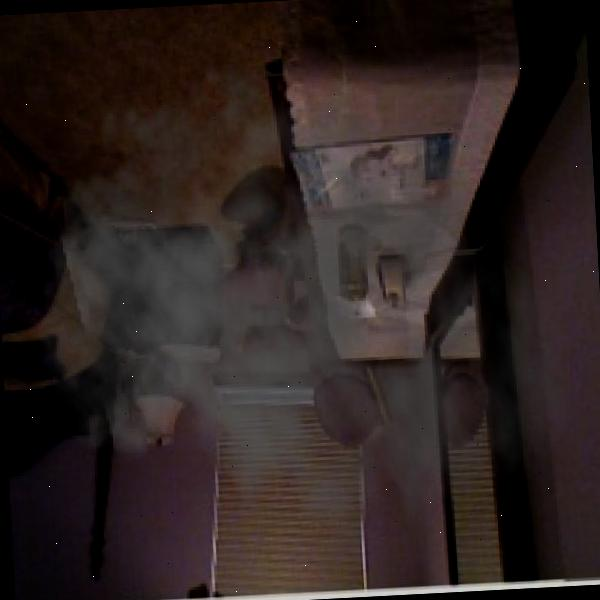smoke: (10, 21, 586, 598)
